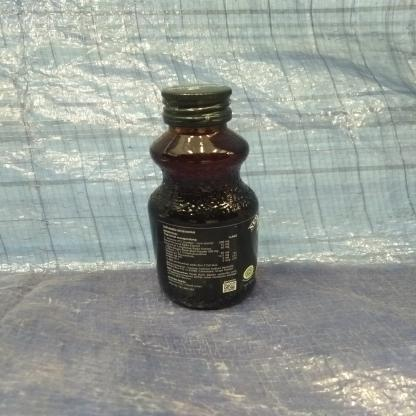glass: (142, 76, 262, 309)
